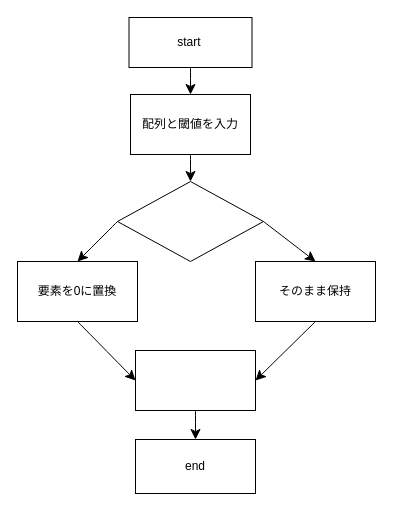
The diagram is 393 pixels wide and 511 high, and some of its shapes have lost their labels. The shapes that lost their labels are listed below. From the top down, each one's centre as x and y in pixels, then its label:
the point at 190,221: 要素 < 閾値
the point at 195,380: 要素の出力
